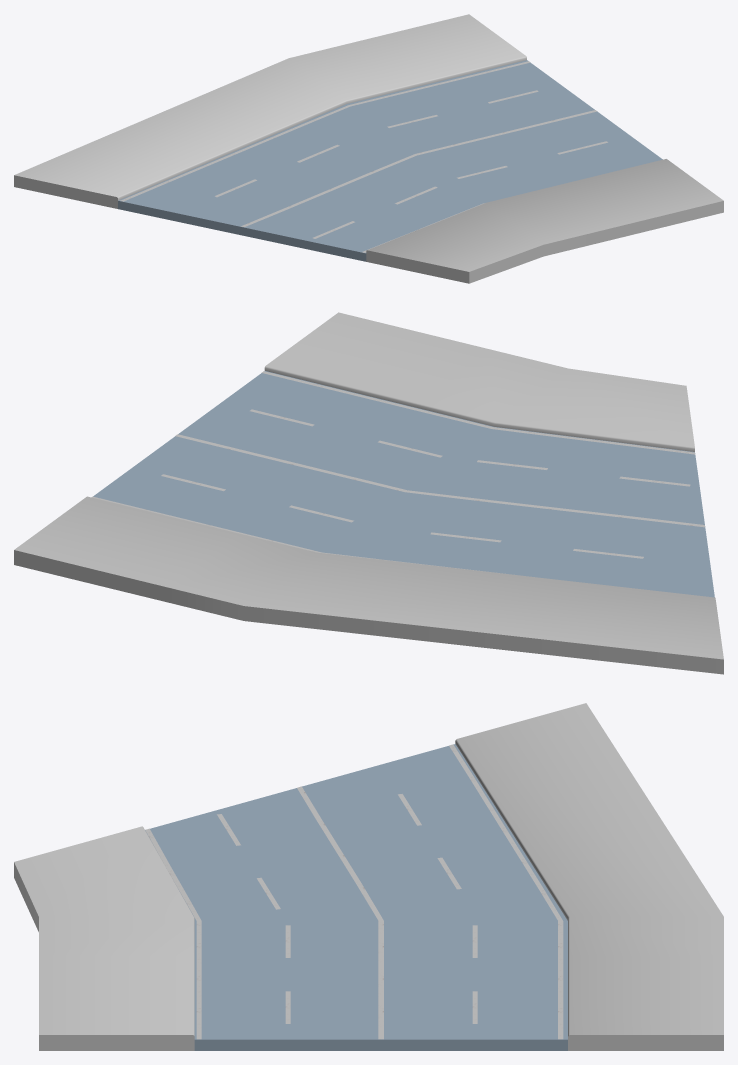
Rendered from Road_014.fbx.
The picture shows the model from 3 angles, top to bottom: view 1: azimuth 30°, elevation 25°; view 2: azimuth 150°, elevation 25°; view 3: azimuth 270°, elevation 25°; orthographic projection. The views are drawn at different scales.
Visible parts, largest first — view 1: Road_014; view 2: Road_014; view 3: Road_014.
Boxes of the visible parts, left/top/right/bottom form: Road_014: left=14, top=14, right=723, bottom=283; Road_014: left=14, top=312, right=723, bottom=674; Road_014: left=14, top=703, right=723, bottom=1050.
Bounding box in the file's own units: 2526 × 56.17 × 2282.
